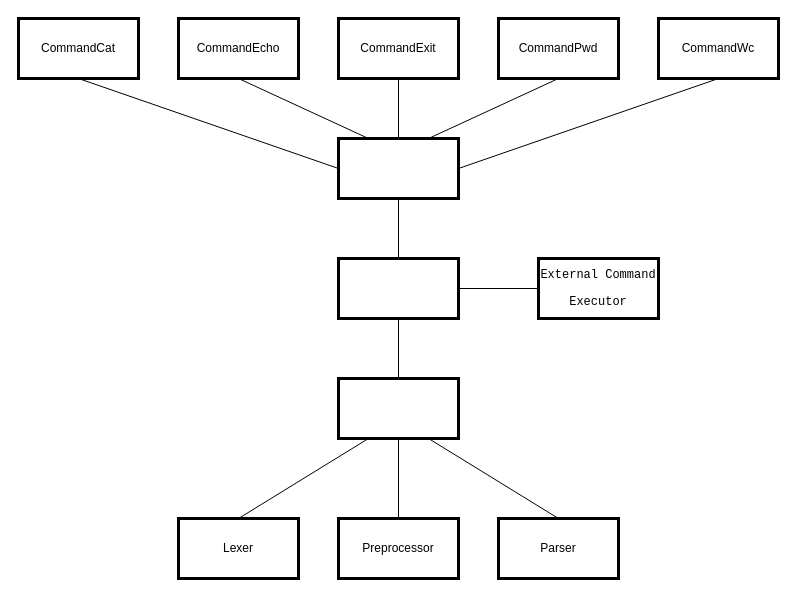
This 797x597 diagram has some shape labels left out. Each missing label, with the centre of its shape:
"Command" belongs at point (398, 168).
"Feature" belongs at point (398, 288).
"Shell" belongs at point (398, 408).
